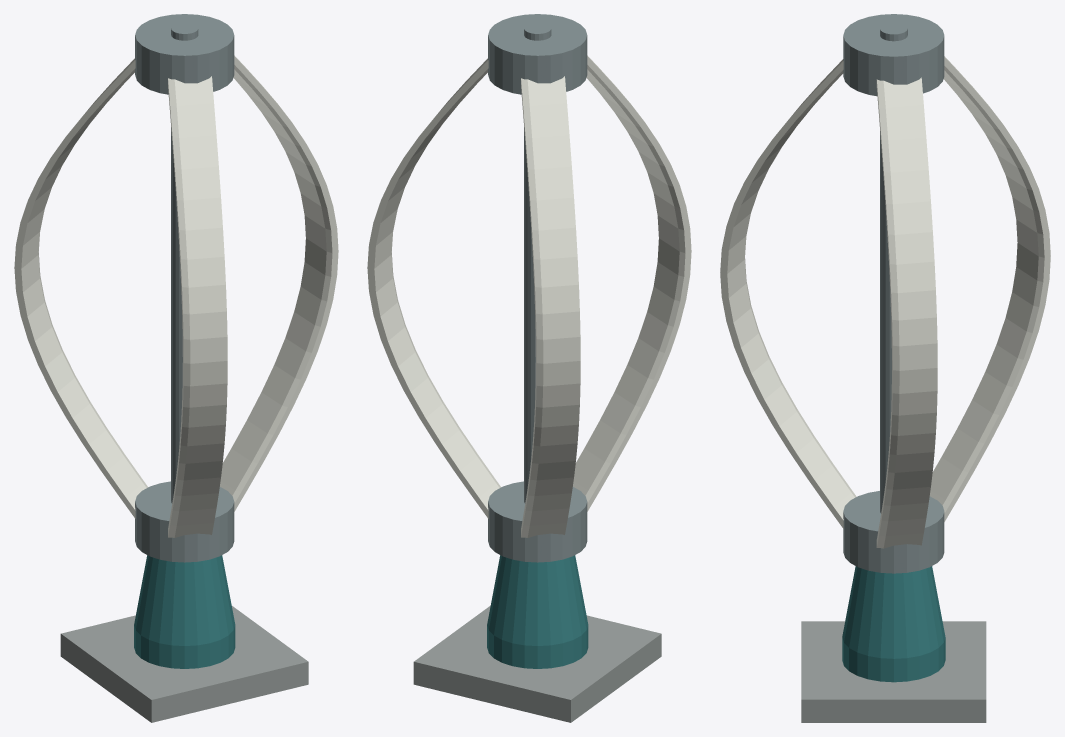
3 views of the same model, side by side, from view 1: azimuth 30°, elevation 25°; view 2: azimuth 150°, elevation 25°; view 3: azimuth 270°, elevation 25° (orthographic). The views are drawn at different scales.
Parts seen in each view (by area): view 1: WholeContinuousBowBlade_3, WholeContinuousBowBlade_1, WholeSquareFoundation, WholeContinuousBowBlade_2, WholeTaperedPedestal, WholeUpperRotorHub, WholeLowerRotorHub, WholeVerticalShaft; view 2: WholeContinuousBowBlade_2, WholeContinuousBowBlade_3, WholeSquareFoundation, WholeContinuousBowBlade_1, WholeTaperedPedestal, WholeUpperRotorHub, WholeLowerRotorHub, WholeVerticalShaft; view 3: WholeContinuousBowBlade_1, WholeContinuousBowBlade_2, WholeSquareFoundation, WholeContinuousBowBlade_3, WholeTaperedPedestal, WholeUpperRotorHub, WholeLowerRotorHub, WholeVerticalShaft.
Boxes of the visible parts, x1=… form: WholeContinuousBowBlade_3: x1=168, y1=76, x2=227, y2=537; WholeContinuousBowBlade_1: x1=220, y1=55, x2=338, y2=511; WholeSquareFoundation: x1=60, y1=606, x2=308, y2=722; WholeContinuousBowBlade_2: x1=14, y1=58, x2=147, y2=518; WholeTaperedPedestal: x1=134, y1=555, x2=235, y2=668; WholeUpperRotorHub: x1=135, y1=14, x2=234, y2=94; WholeLowerRotorHub: x1=135, y1=481, x2=234, y2=562; WholeVerticalShaft: x1=171, y1=22, x2=198, y2=503; WholeContinuousBowBlade_2: x1=521, y1=76, x2=580, y2=537; WholeContinuousBowBlade_3: x1=573, y1=55, x2=691, y2=511; WholeSquareFoundation: x1=413, y1=605, x2=661, y2=722; WholeContinuousBowBlade_1: x1=367, y1=58, x2=500, y2=518; WholeTaperedPedestal: x1=487, y1=555, x2=588, y2=668; WholeUpperRotorHub: x1=488, y1=14, x2=587, y2=94; WholeLowerRotorHub: x1=488, y1=481, x2=587, y2=562; WholeVerticalShaft: x1=524, y1=22, x2=551, y2=503; WholeContinuousBowBlade_1: x1=876, y1=77, x2=937, y2=548; WholeContinuousBowBlade_2: x1=929, y1=56, x2=1050, y2=521; WholeSquareFoundation: x1=801, y1=621, x2=986, y2=722; WholeContinuousBowBlade_3: x1=720, y1=59, x2=856, y2=528; WholeTaperedPedestal: x1=842, y1=566, x2=945, y2=682; WholeUpperRotorHub: x1=843, y1=14, x2=944, y2=96; WholeLowerRotorHub: x1=843, y1=491, x2=944, y2=573; WholeVerticalShaft: x1=880, y1=22, x2=907, y2=513.
Bounding box in the file's own units: 1.43 × 3.36 × 1.54.
